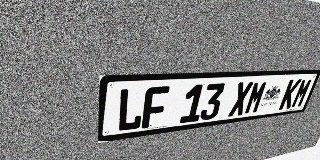1: (180, 84, 207, 123)
3: (199, 83, 226, 121)
F: (141, 86, 170, 129)
K: (278, 79, 302, 110)
L: (116, 87, 145, 132)
M: (243, 81, 269, 115), (290, 78, 313, 108)
X: (228, 81, 254, 117)
